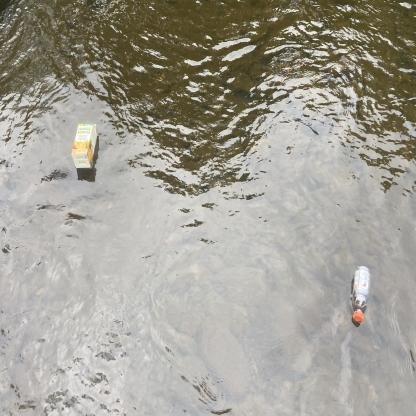trash: (70, 119, 104, 174), (349, 262, 376, 330)
